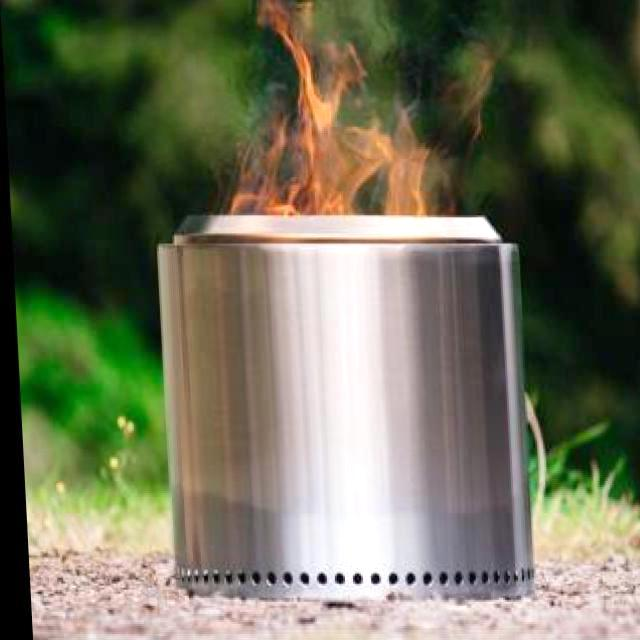fire: (230, 9, 458, 223)
